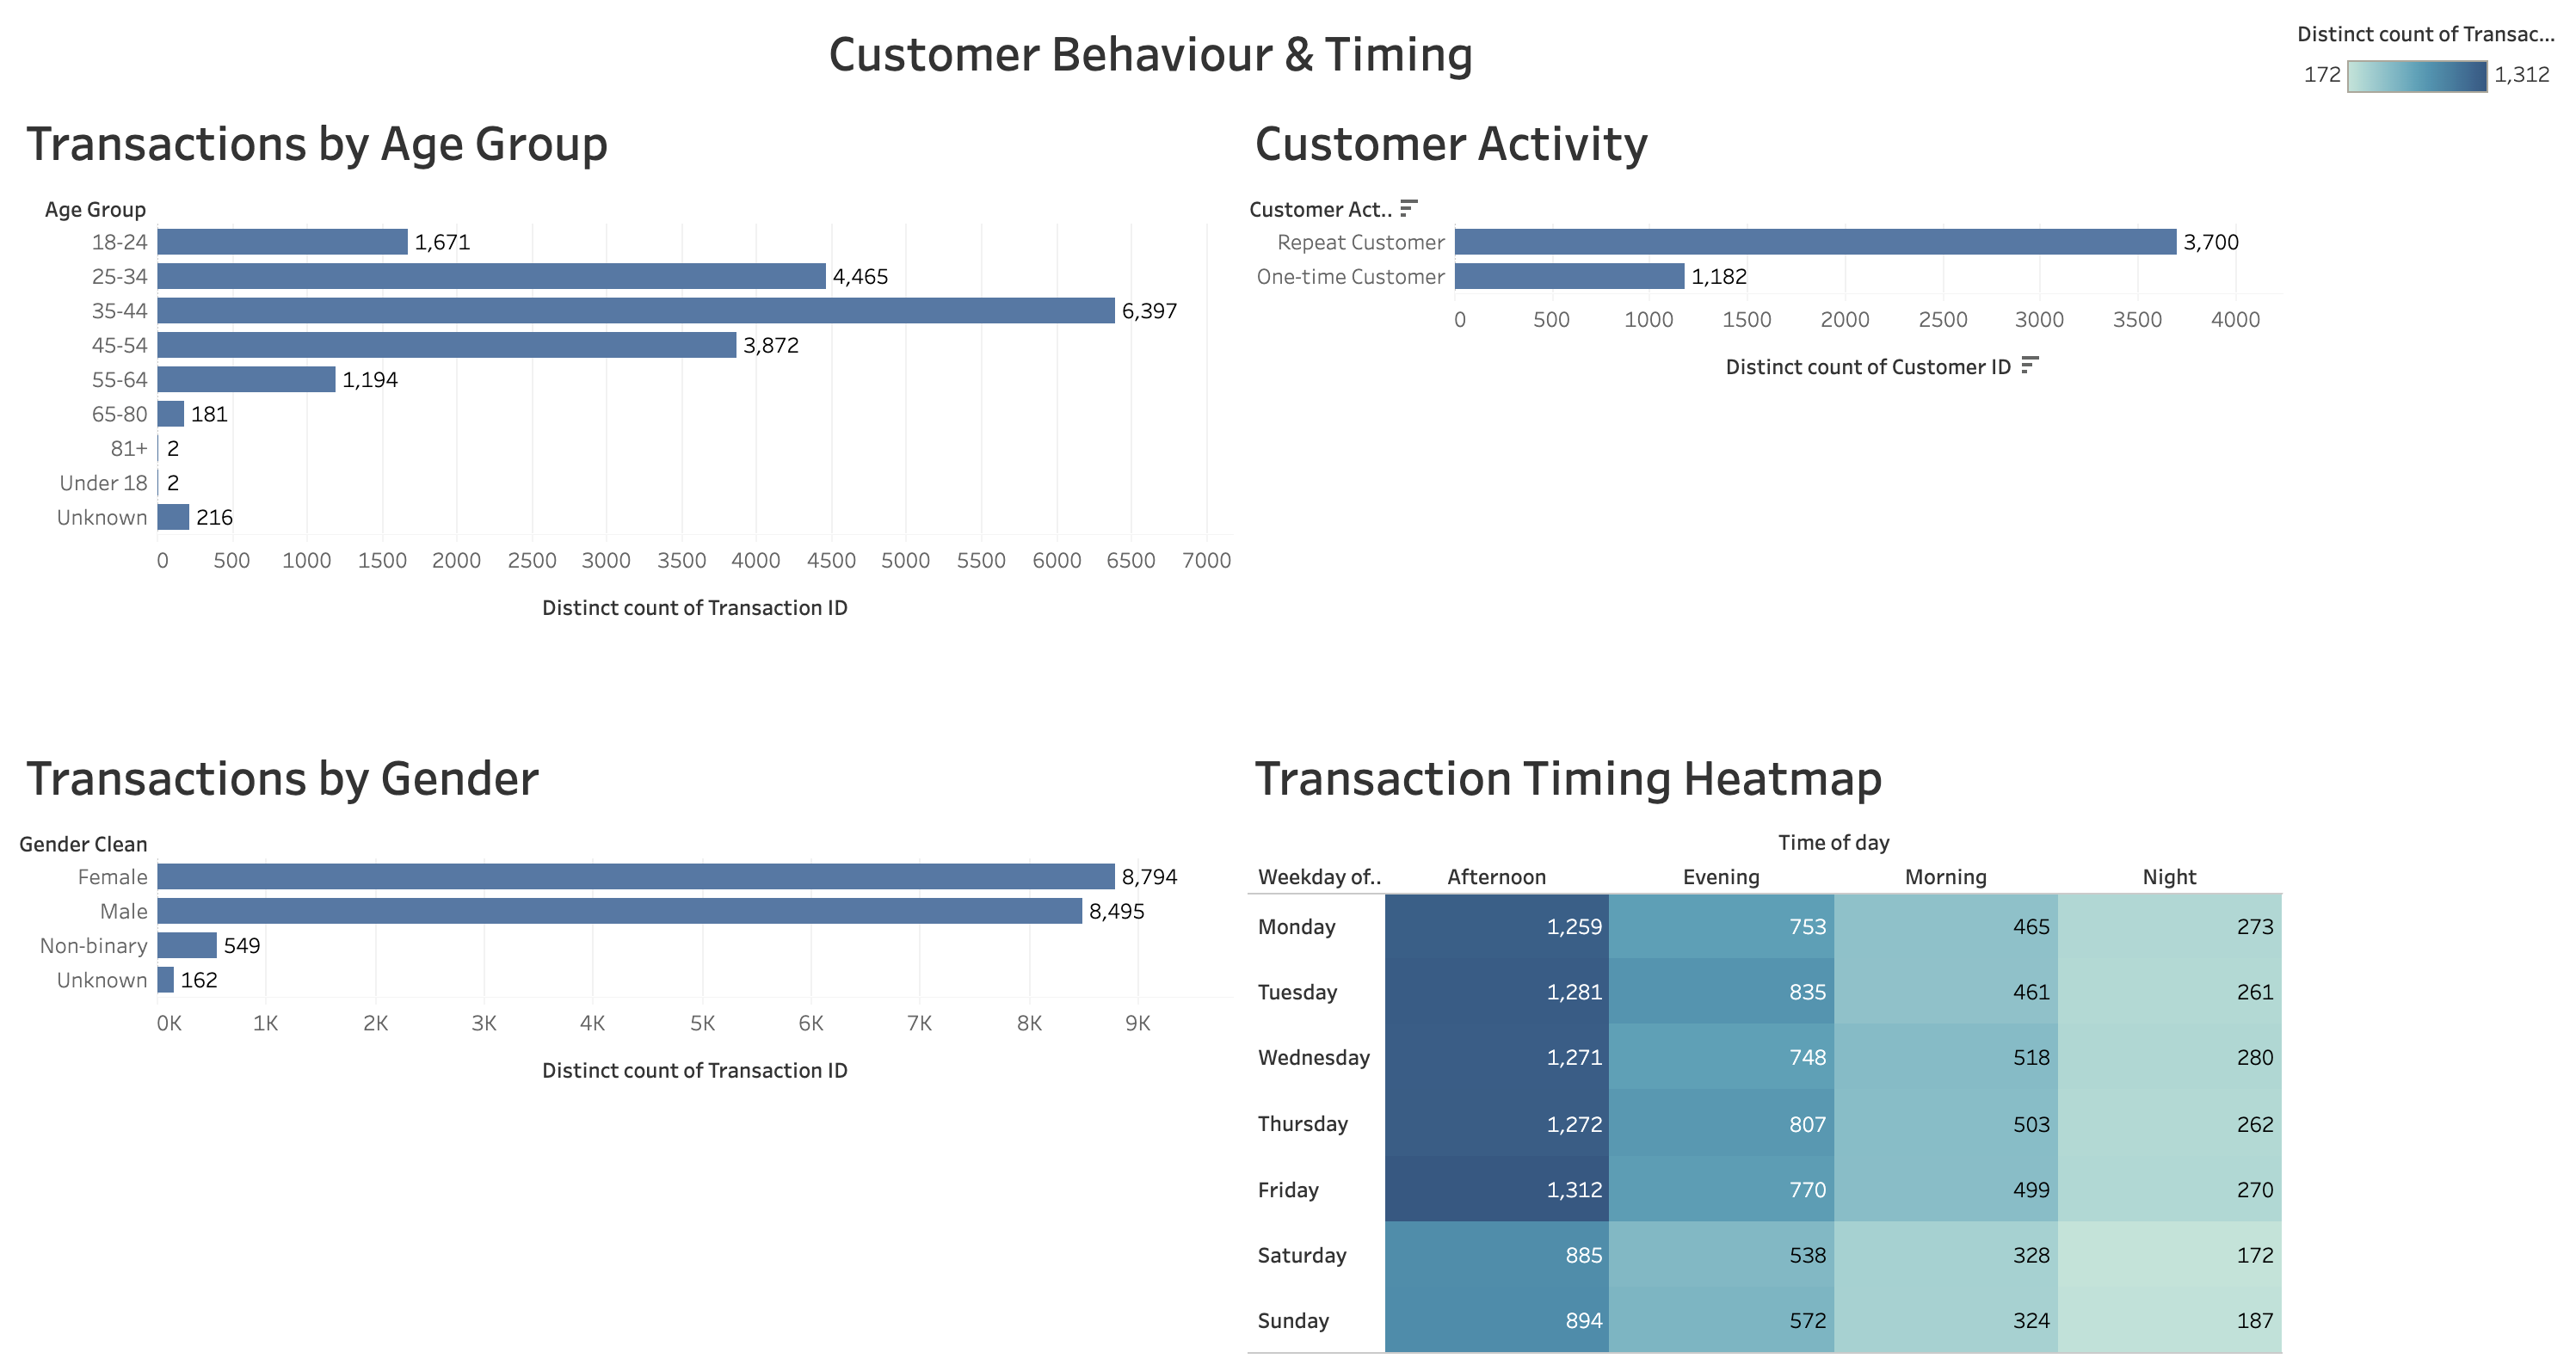

What the dashboard file says about the page in this screenshot:
{"tool":"tableau","page":{"name":"Customer Behaviour & Timing","canvas":[1500,800],"ordinal":0},"visuals":[{"type":"title","box":[8,8,1324,46]},{"type":"legend","title":"Transaction Timing Heatmap","param":"[federated.1n2j94k0vl7aix16e08tc1yfyvix].[ctd:Transaction_ID:qk]","box":[1332,8,160,68]},{"type":"worksheet","title":"Transactions by Age Group","mark":"Automatic","rows":["Calculation_0001078467108908"],"cols":["Transaction_ID"],"box":[8,54,714,369]},{"type":"worksheet","title":"Customer Activity","mark":"Automatic","rows":["Calculation_0001078469259315"],"cols":["Customer_ID"],"box":[722,54,610,369]},{"type":"worksheet","title":"Transactions by Gender","mark":"Automatic","rows":["Calculation_0001078466957355"],"cols":["Transaction_ID"],"box":[8,423,714,369]},{"type":"worksheet","title":"Transaction Timing Heatmap","mark":"Square","rows":["Order_Date"],"cols":["Calculation_0001078468636720"],"box":[722,423,610,369]}]}

Visuals, with their boxes in screenshot pixels (x1, y1, x2, y2), scaled from the page's 1500x800 canvas onto the 2576x1371 screenshot:
title: 14/14/2288/93
"Transaction Timing Heatmap" legend: 2288/14/2562/130
"Transactions by Age Group" worksheet: 14/93/1240/725
"Customer Activity" worksheet: 1240/93/2288/725
"Transactions by Gender" worksheet: 14/725/1240/1357
"Transaction Timing Heatmap" worksheet (Square marks): 1240/725/2288/1357
